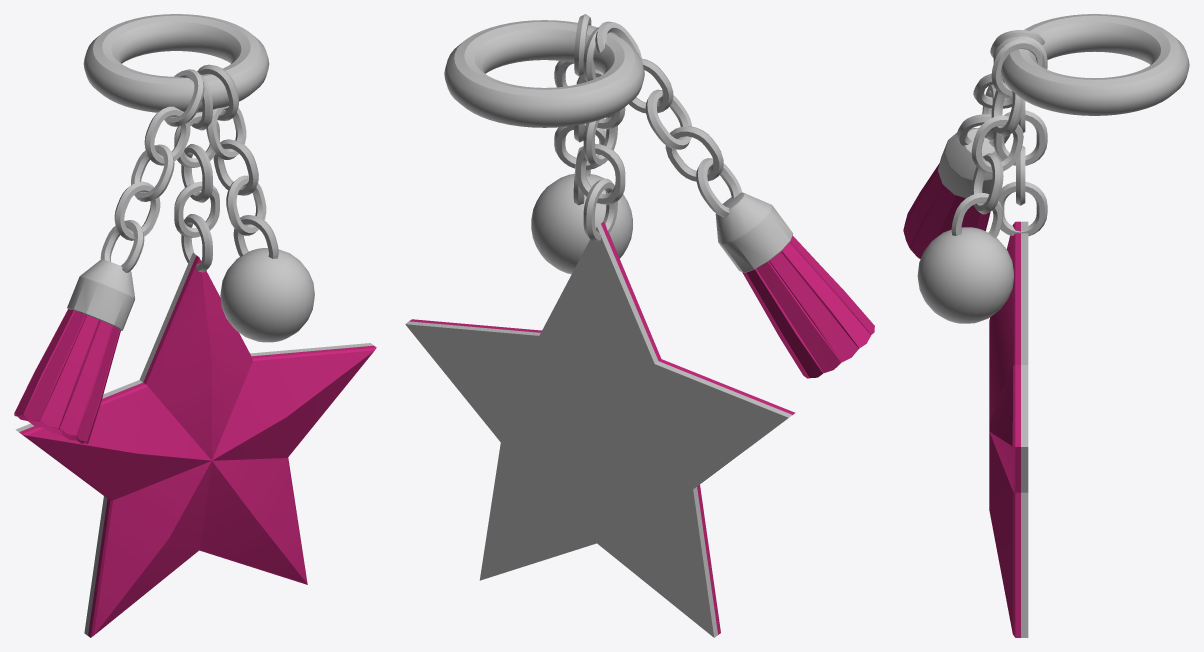
The model's file is Charm3.fbx.
The picture shows the model from 3 angles, left to right: view 1: azimuth 30°, elevation 25°; view 2: azimuth 150°, elevation 25°; view 3: azimuth 270°, elevation 25°; orthographic projection. The views are drawn at different scales.
Visible parts, largest first — view 1: Charm.014, Charm3, Charm.016, Charm.015, Charm.017, Charm.003, Charm.018; view 2: Charm.014, Charm3, Charm.016, Charm.017, Charm.015, Charm.018, Charm.003; view 3: Charm.014, Charm3, Charm.015, Charm.016, Charm.003, Charm.018, Charm.017.
Part boxes in pixels (left/top/right/bottom): Charm.014: left=15, top=253, right=376, bottom=637; Charm3: left=83, top=14, right=269, bottom=112; Charm.016: left=14, top=259, right=135, bottom=443; Charm.015: left=220, top=248, right=314, bottom=342; Charm.017: left=100, top=69, right=204, bottom=272; Charm.003: left=197, top=64, right=278, bottom=258; Charm.018: left=174, top=74, right=219, bottom=272; Charm.014: left=405, top=221, right=795, bottom=637; Charm3: left=444, top=20, right=644, bottom=127; Charm.016: left=715, top=192, right=874, bottom=378; Charm.017: left=595, top=21, right=741, bottom=217; Charm.015: left=531, top=174, right=632, bottom=274; Charm.018: left=576, top=27, right=625, bottom=241; Charm.003: left=554, top=14, right=606, bottom=205; Charm.014: left=989, top=221, right=1028, bottom=637; Charm3: left=1001, top=14, right=1189, bottom=115; Charm.015: left=917, top=227, right=1013, bottom=323; Charm.016: left=903, top=128, right=1003, bottom=258; Charm.003: left=951, top=39, right=1043, bottom=238; Charm.018: left=993, top=36, right=1047, bottom=236; Charm.017: left=956, top=30, right=1044, bottom=146.
Size of the model in its own units: 35.65 by 47.27 by 22.18.
